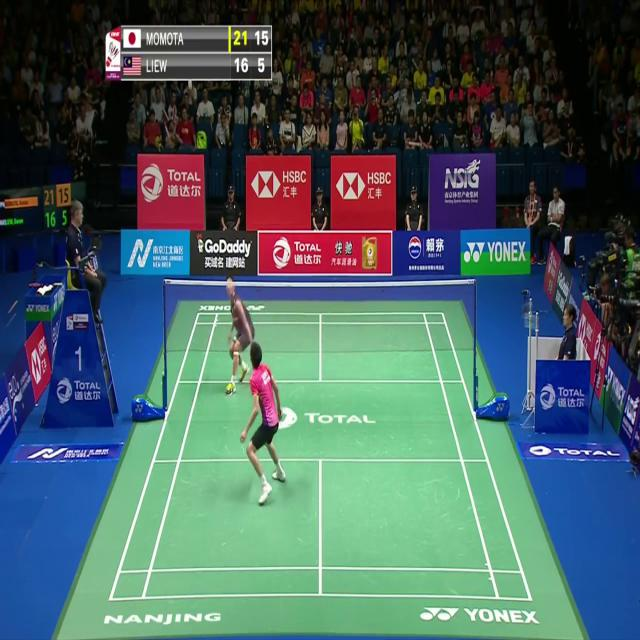Shuttlecock: (187, 78, 194, 89)
